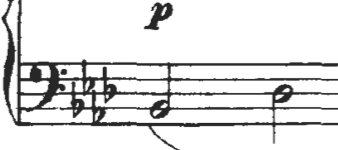bass_clef: (27, 57, 69, 114)
flat: (68, 78, 87, 125), (99, 61, 119, 102), (89, 87, 108, 129), (80, 56, 97, 98)
